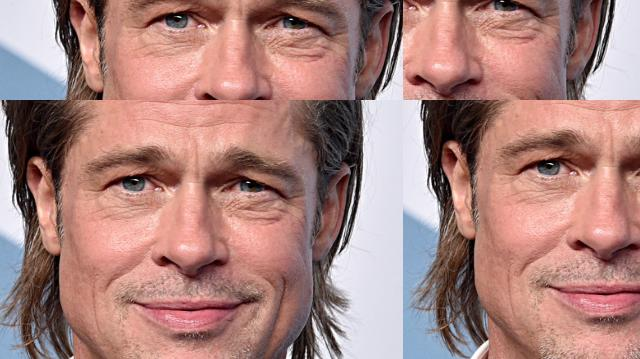crows_feet: (494, 166, 518, 186)
forehead: (128, 36, 168, 86), (174, 52, 210, 98), (86, 50, 120, 98), (46, 49, 78, 100), (580, 100, 640, 117), (19, 77, 44, 100)
frown_line: (602, 132, 622, 162)
gummy_smile: (515, 244, 557, 270), (417, 9, 439, 45), (498, 1, 526, 28)
masseter: (503, 276, 519, 320)
